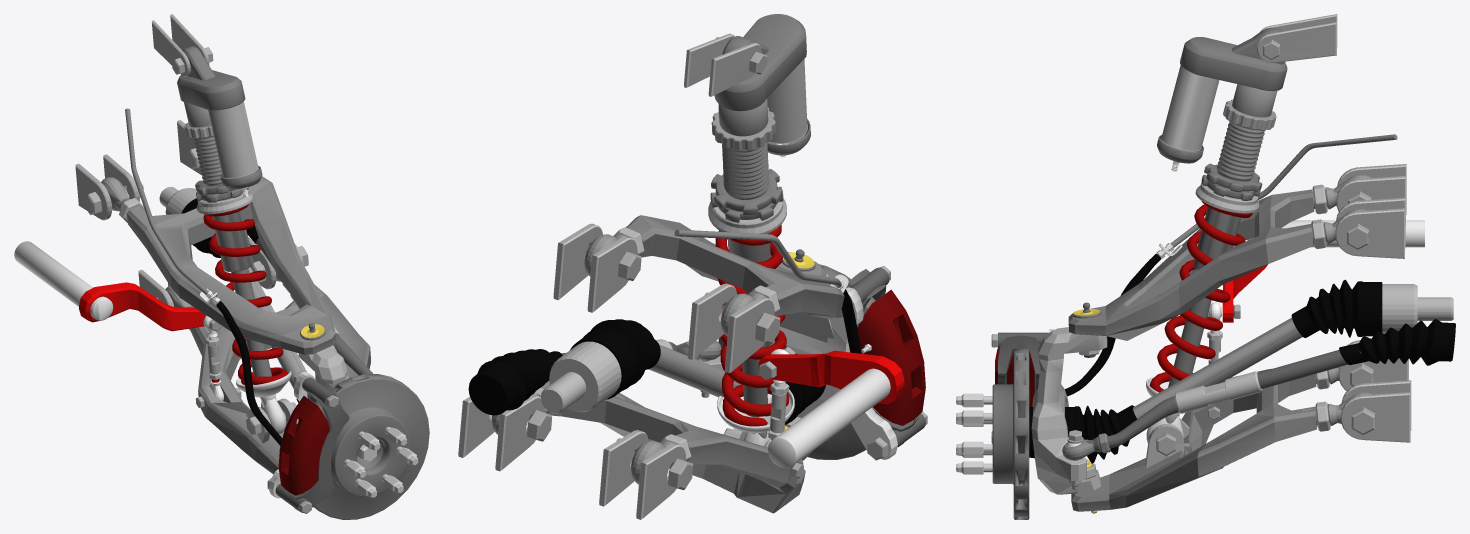
File: suspensao.glb
3 renders of one model, left to right at view 1: azimuth 30°, elevation 25°; view 2: azimuth 150°, elevation 25°; view 3: azimuth 270°, elevation 25°, orthographic. The views are drawn at different scales.
Visible parts, largest first — view 1: New_Game_Object (×26); view 2: New_Game_Object (×26); view 3: New_Game_Object (×27).
Boxes of the visible parts, x1,y1,x2,y2 form: New_Game_Object (×26): (14, 14, 429, 519); New_Game_Object (×26): (458, 14, 927, 519); New_Game_Object (×27): (956, 14, 1455, 519).
Size of the model in its own units: 183 by 270 by 263.
